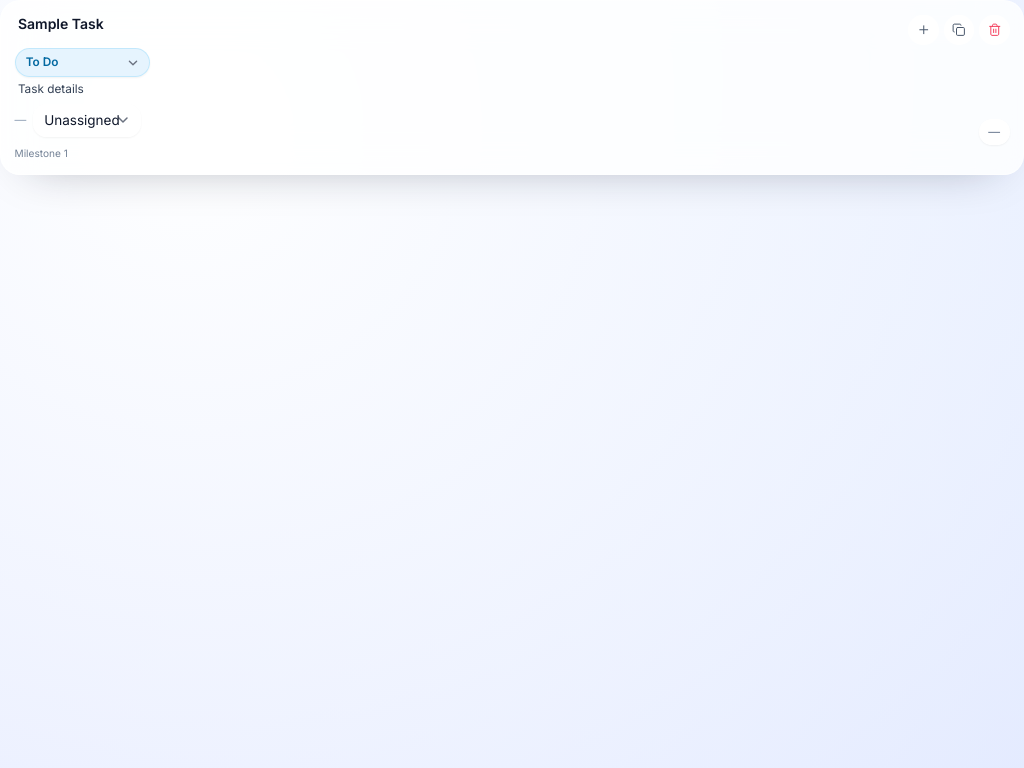
Scenario: TaskCard › toggles expand/collapse
Check: the text "Milestone 1" is shown, box [14,147,68,159]
Click the button titled "expand" at (924, 30), box [908,14,939,45]
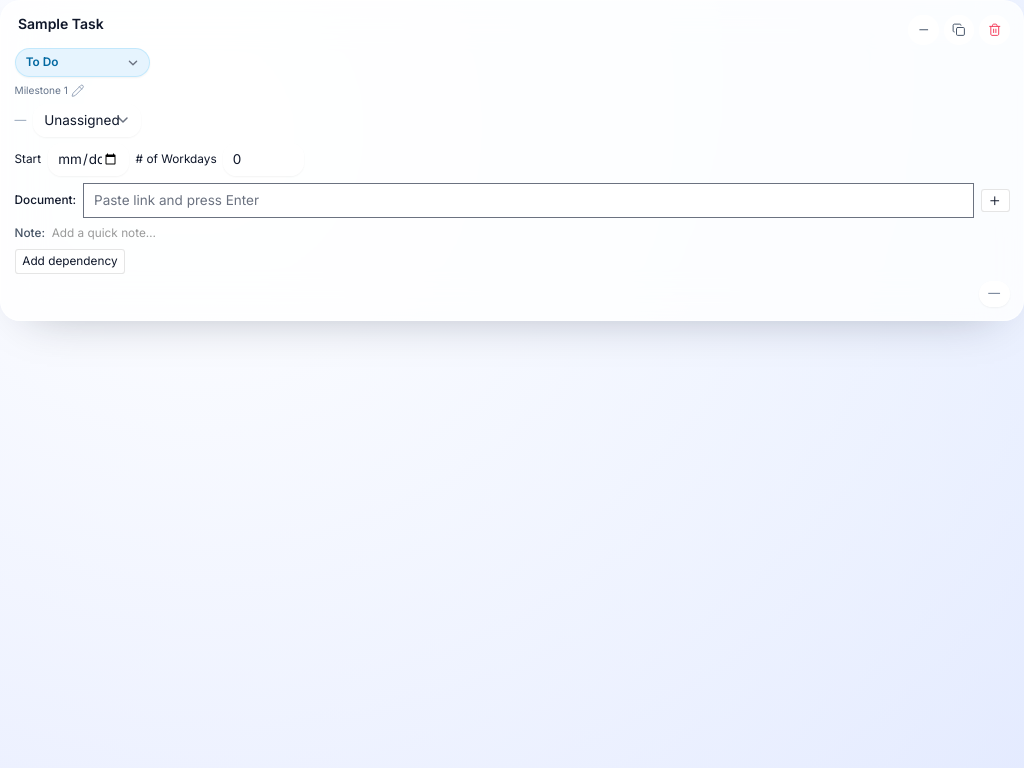
Check: the text "Start" is shown, box [14,151,41,168]
Click the button titled "collapse" at (924, 30), box [908,14,939,45]
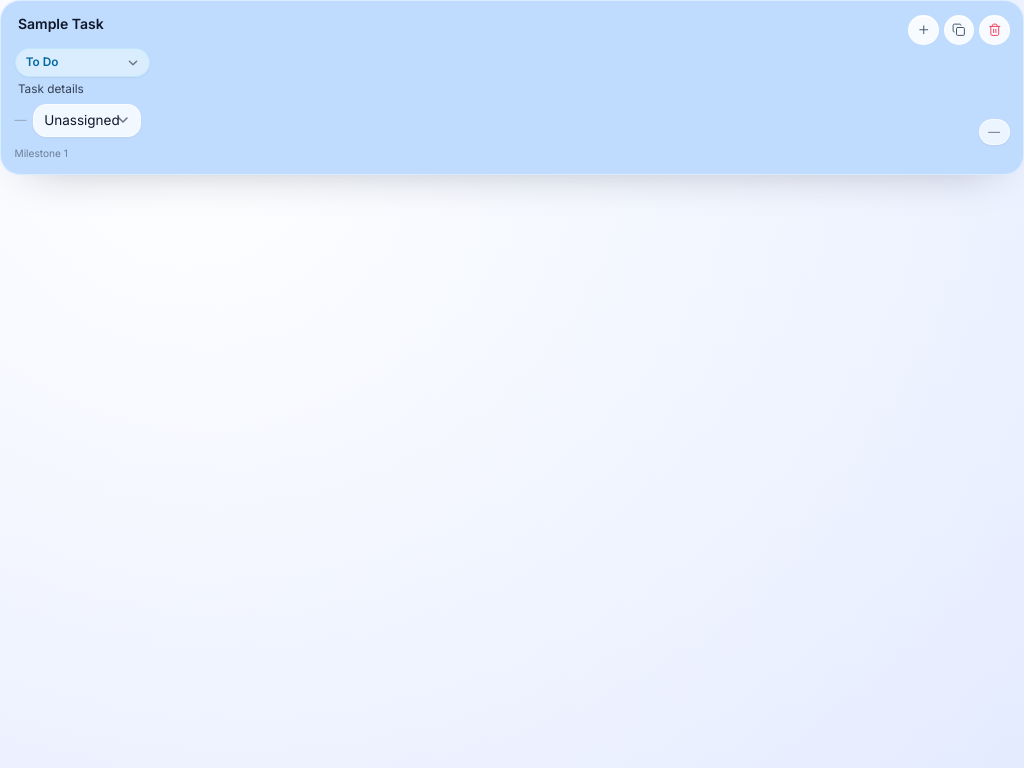
Check: the text "Start" is gone
